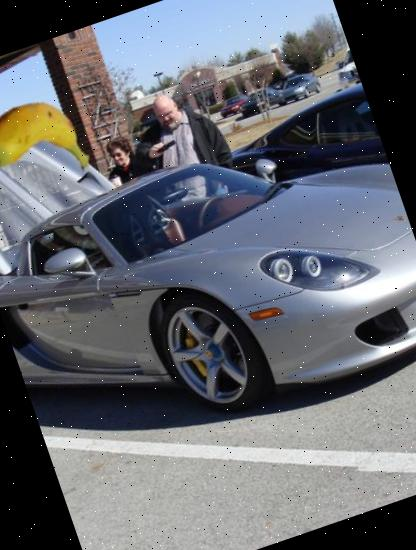Banana: (0, 77, 100, 208)
